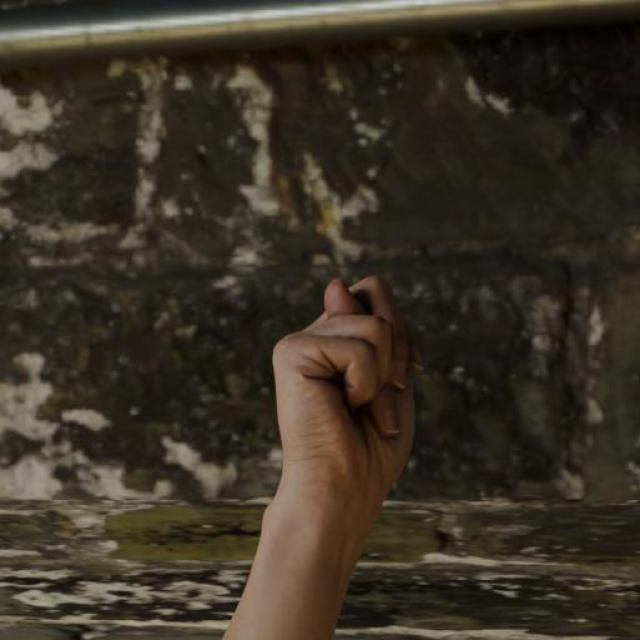N: (268, 273, 427, 501)
